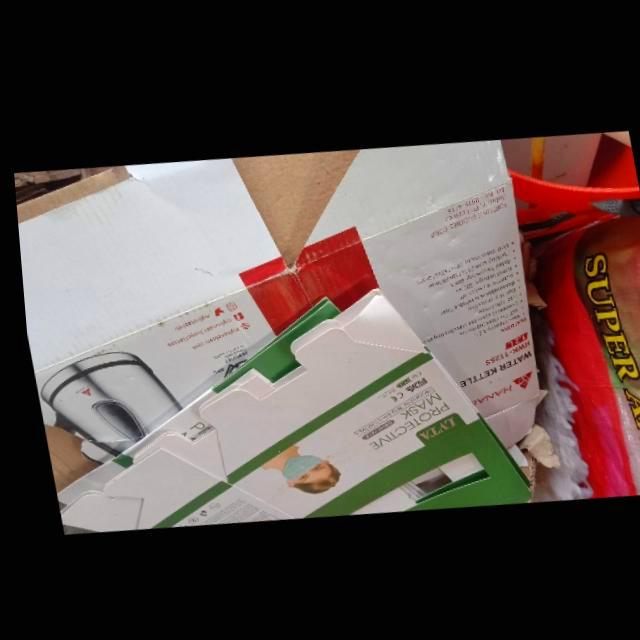cardboard: (13, 134, 542, 463), (48, 285, 522, 532)
